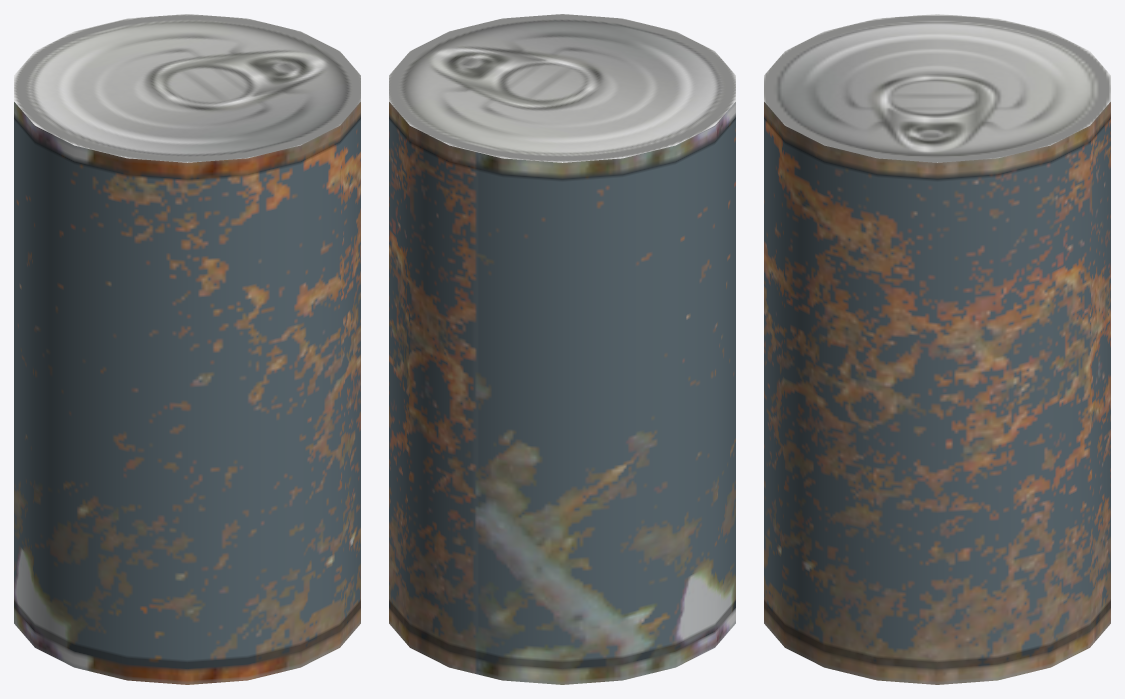
The model's file is CAN-7.FBX.
3 renders of one model, left to right at view 1: azimuth 30°, elevation 25°; view 2: azimuth 150°, elevation 25°; view 3: azimuth 270°, elevation 25°, orthographic.
Parts seen in each view (by area): view 1: Cylinder001; view 2: Cylinder001; view 3: Cylinder001.
Part boxes in pixels (x1,y1,x2,y2): Cylinder001: (14,14,360,684); Cylinder001: (389,14,735,684); Cylinder001: (764,14,1110,684).
Bounding box in the file's own units: 22.03 × 36.02 × 21.69.
Materials: 3 (3 with a texture image).
